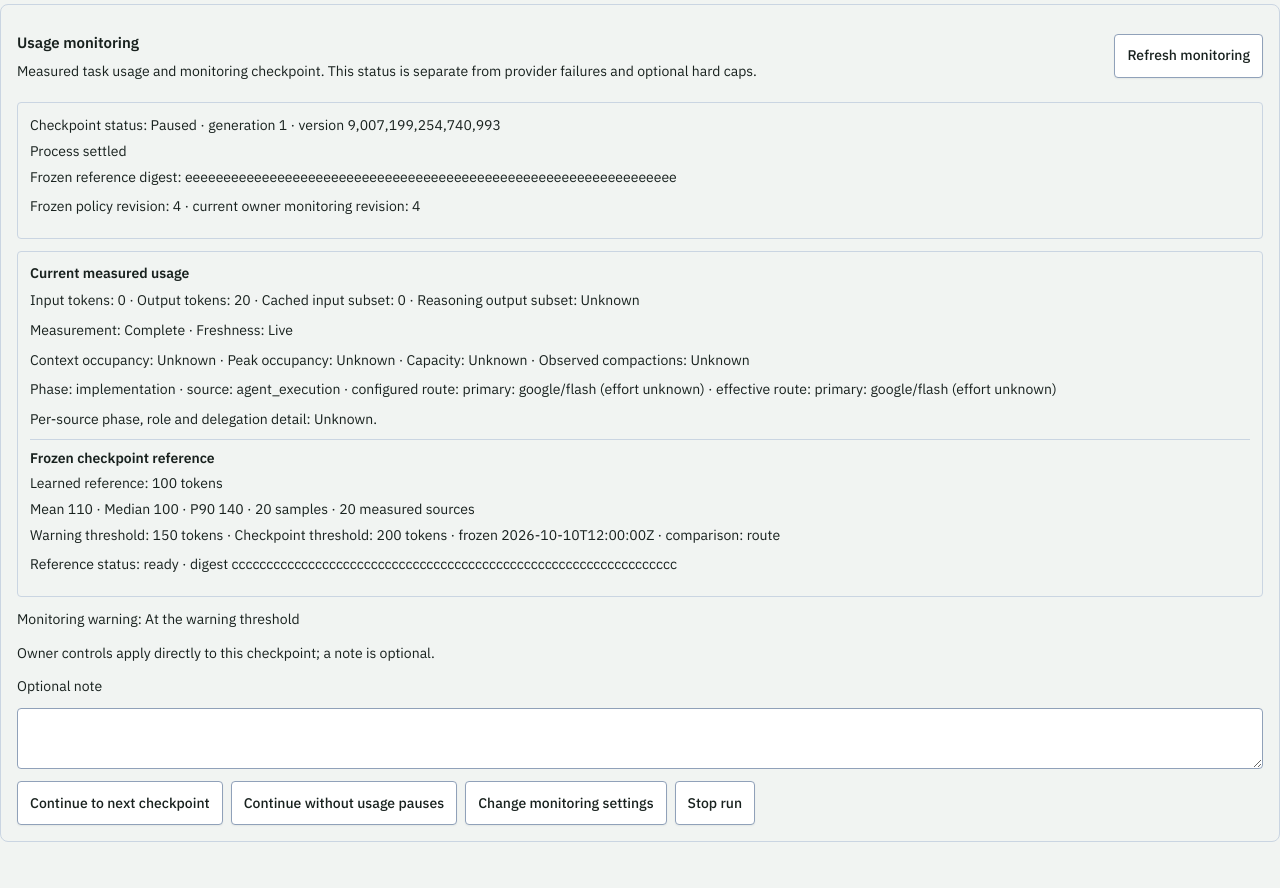
Test: replays a high policy command after uncertain response and newer checkpoint without changing body or key
The image size is (1280, 888).
Click the button "Change monitoring settings". click: (566, 803)
box: [465, 781, 666, 825]
(page scrolled)
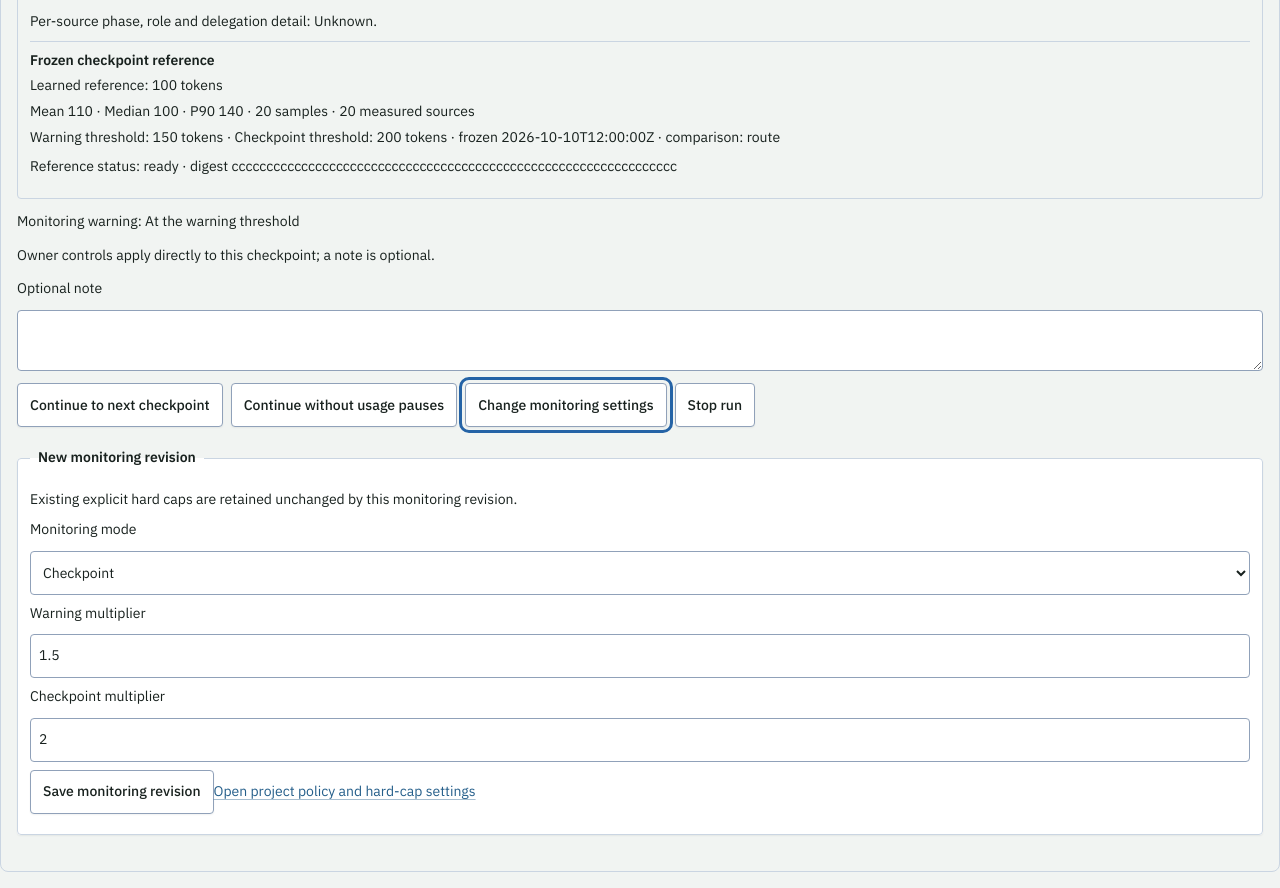
Click the button "Save monitoring revision". click: (122, 792)
box: [30, 770, 214, 814]
(page scrolled)
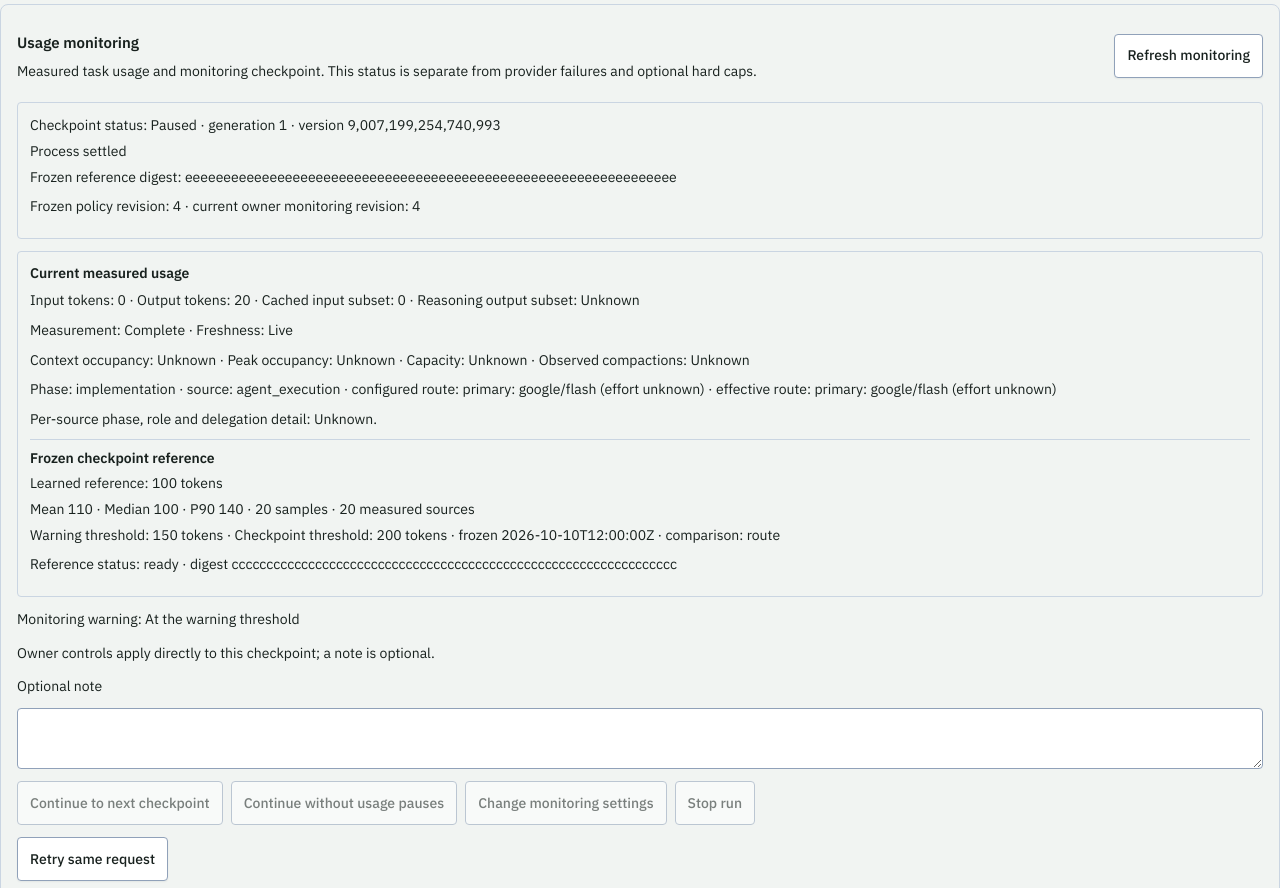
Result: the button "Retry same request" is shown at [17, 837, 168, 881]
Click the button "Refresh monitoring". click: (1189, 56)
box: [1114, 34, 1263, 78]
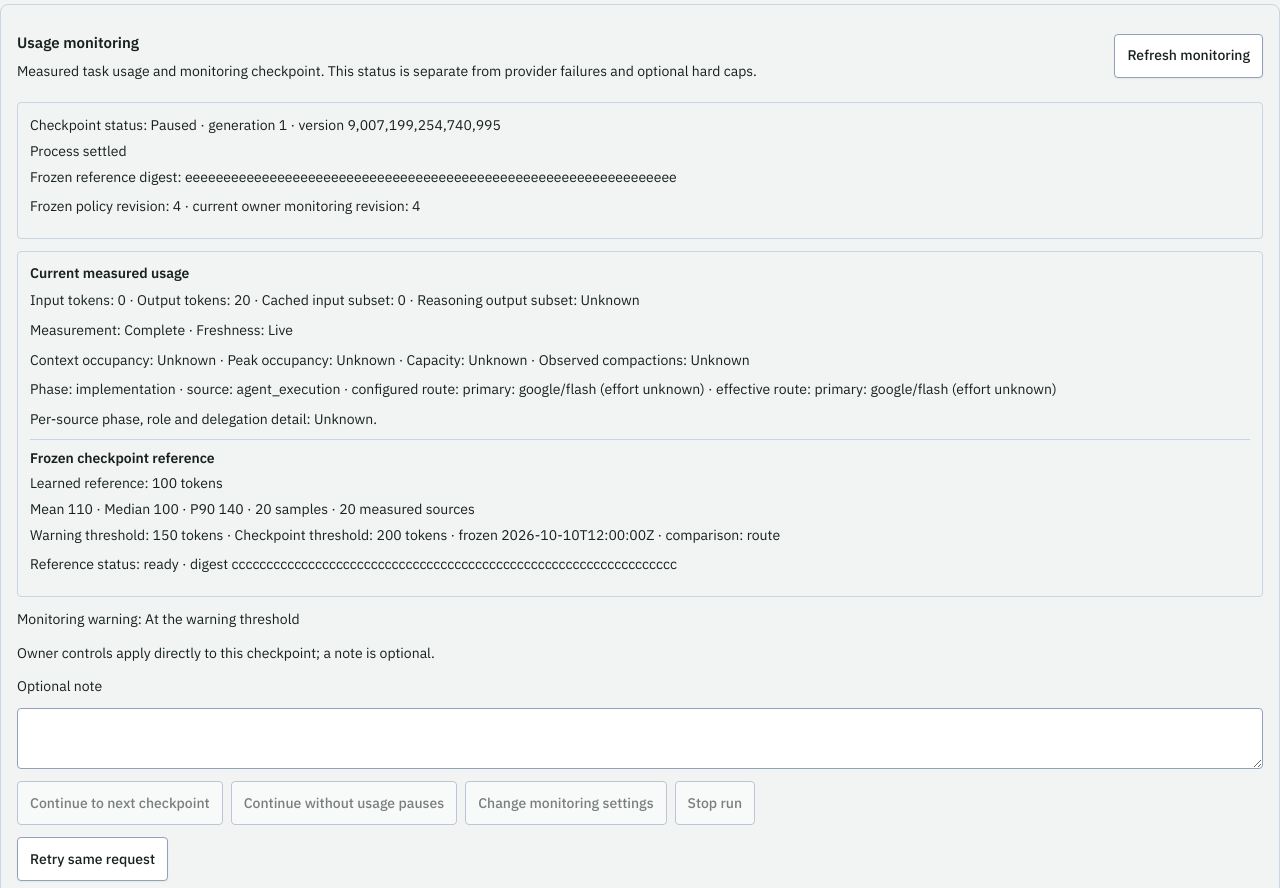
Result: the text "version 9,007,199,254,740,995" is shown at [30, 116, 501, 134]
Click the button "Retry same request". click: (92, 859)
box: [17, 837, 168, 881]
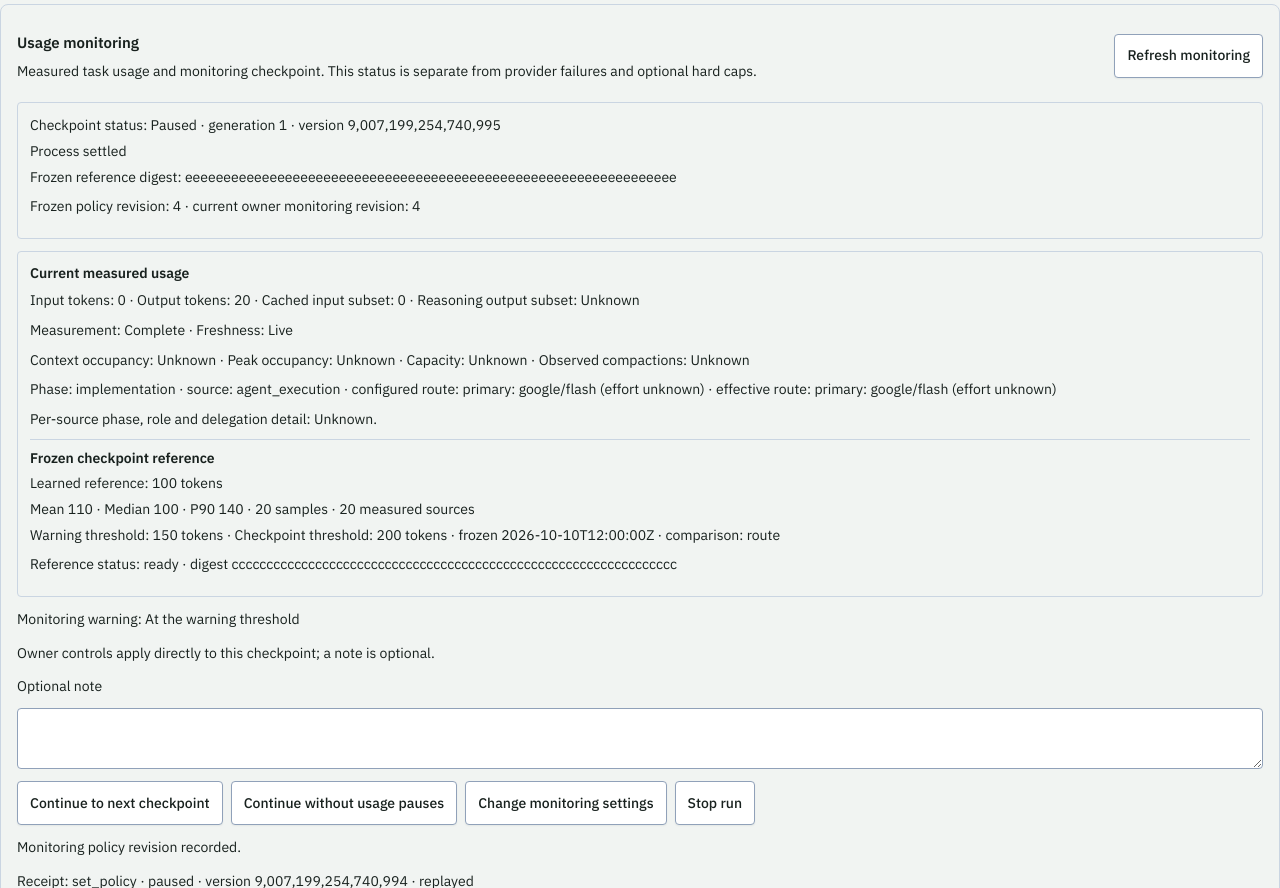
Result: the text "Monitoring policy revision recorded." is shown at [17, 838, 241, 856]
Result: the button "Retry same request" is gone
